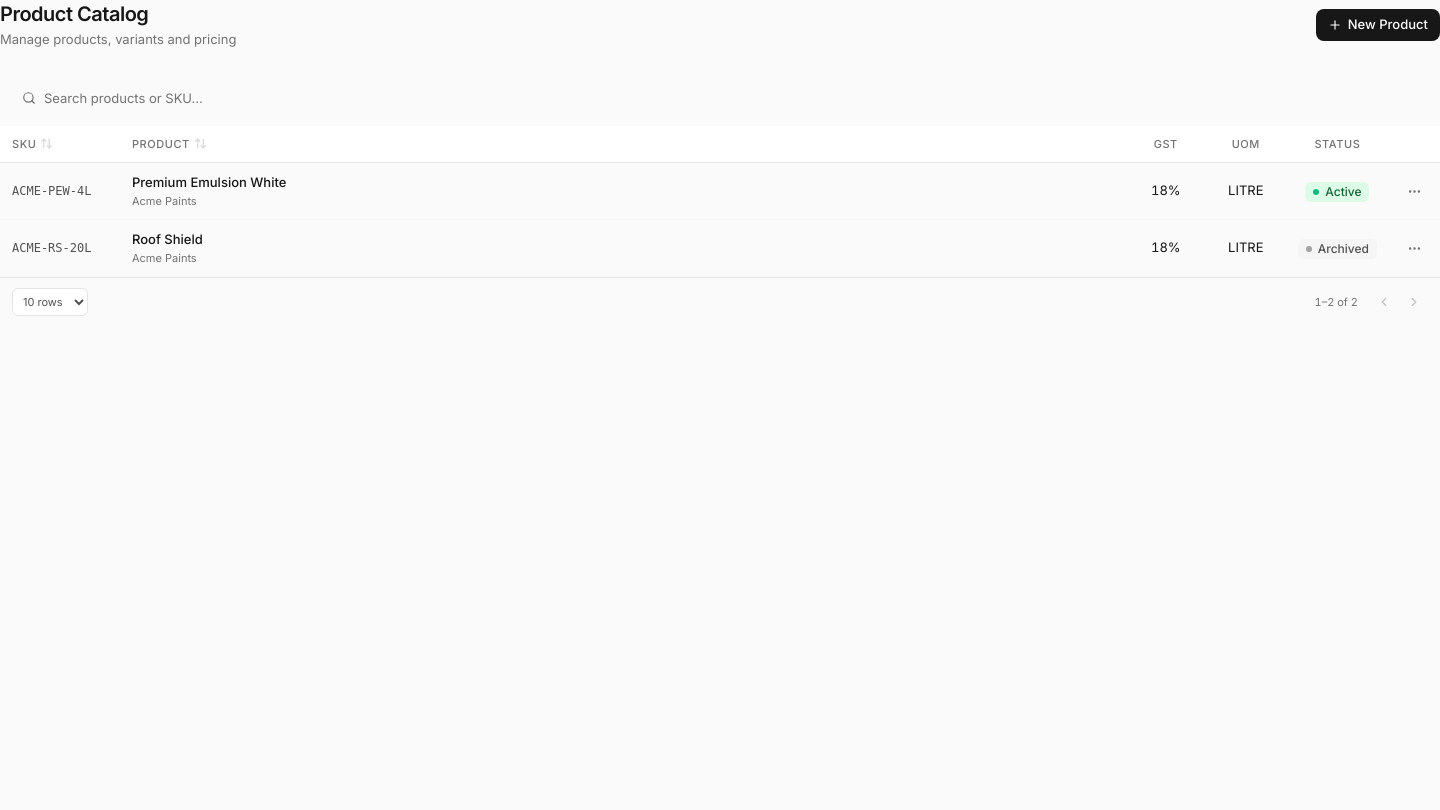
Test: ProductCatalogPage › blocks product creation when product name is missing
Click the button "New Product". click: {"x": 1378, "y": 25}
box: [1316,9,1439,41]
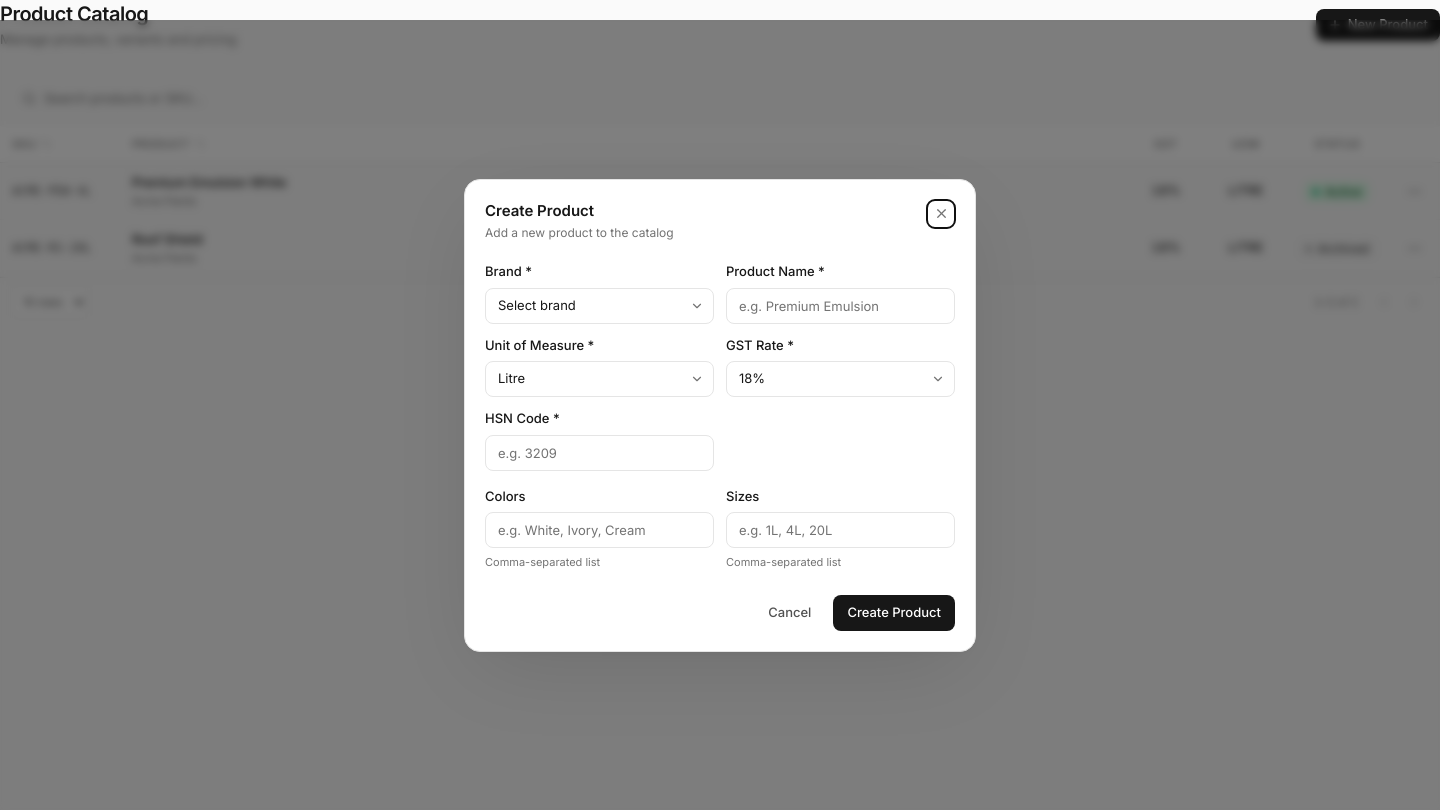
expect the heading "Create Product" is shown: met, box [485,200,594,220]
// Fill brand but leave name empty
Select "Acme Paints" in the dropdown labelled "Brand *". click: {"x": 600, "y": 306}
box: [485,288,714,324]
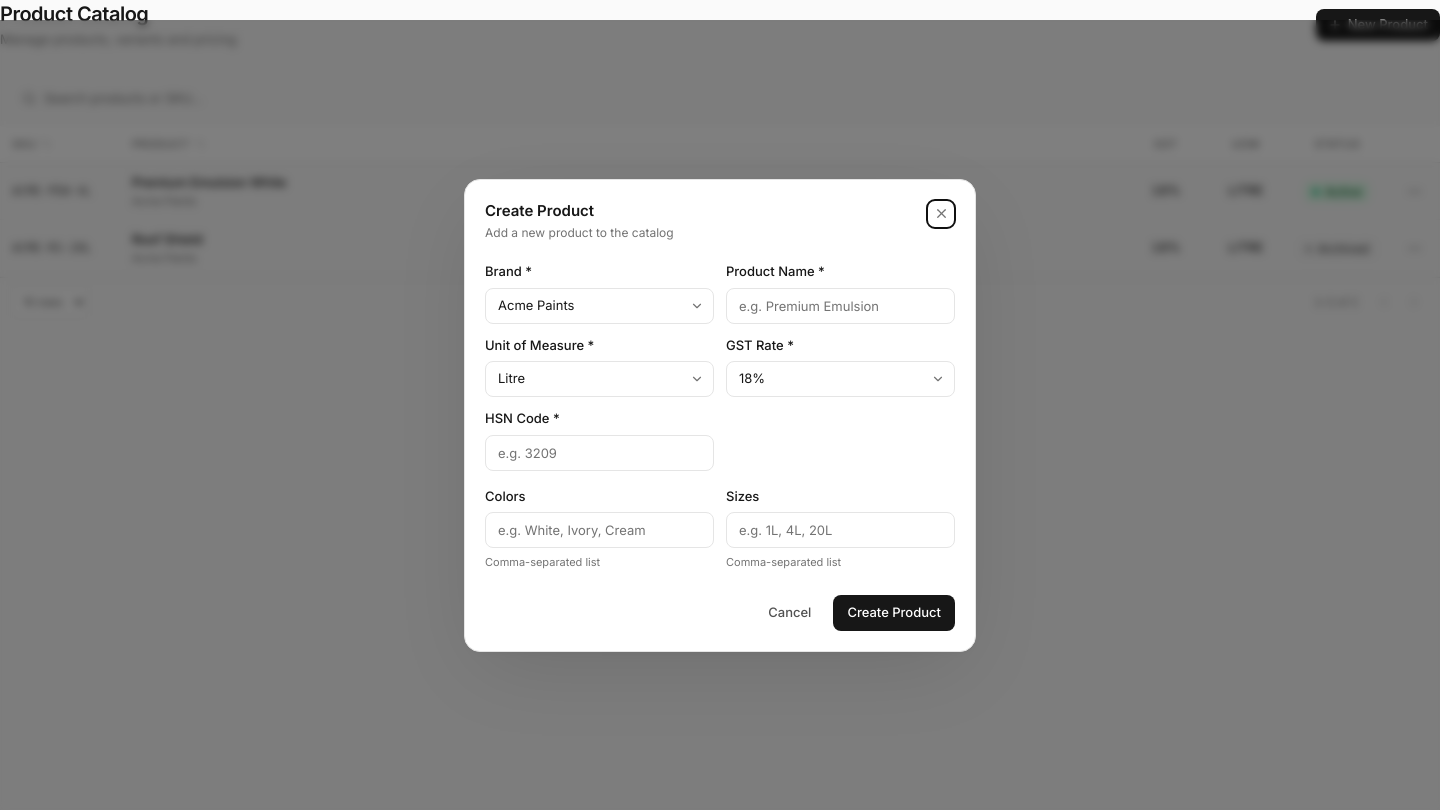
Click the button "Create Product". click: {"x": 894, "y": 612}
box: [833,594,955,630]
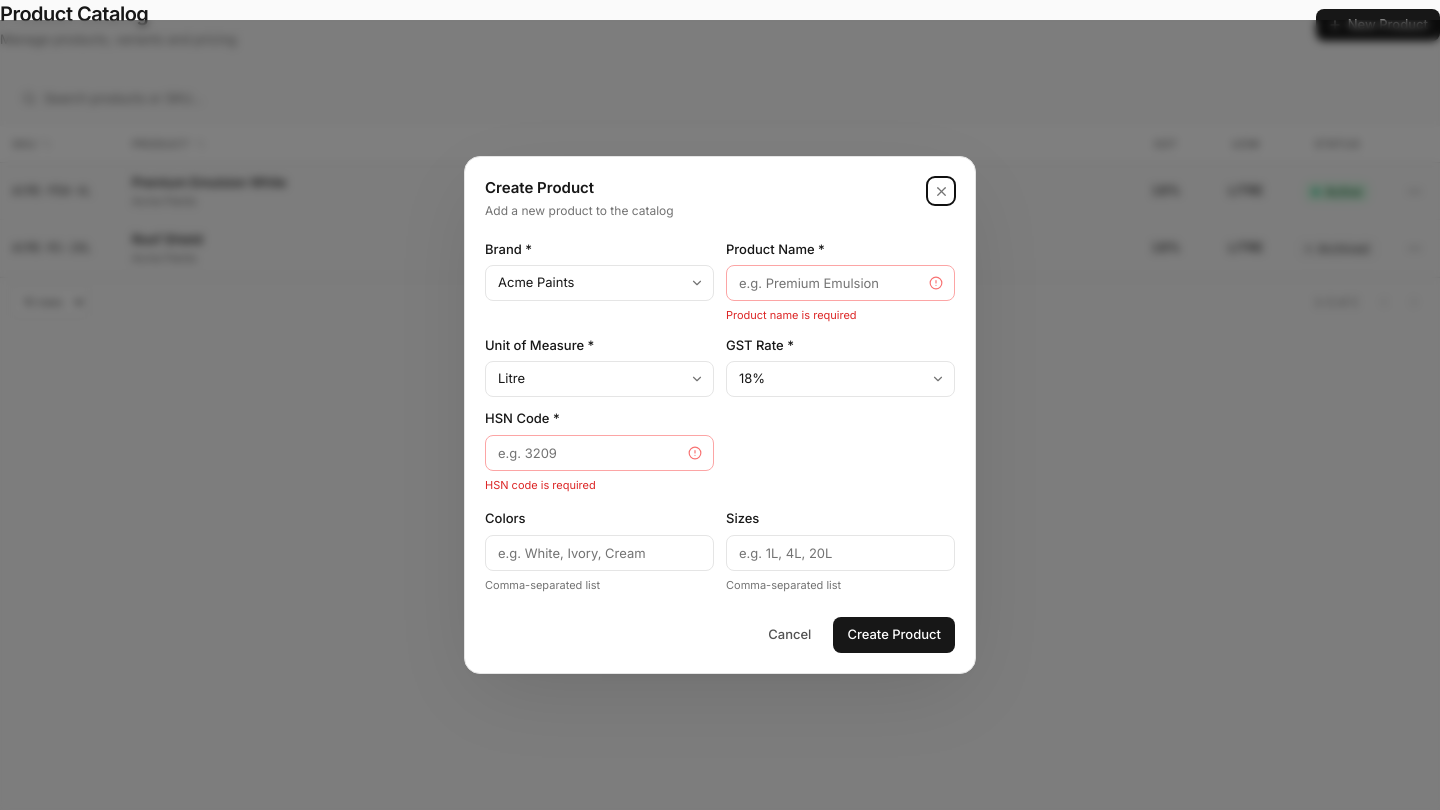
expect the text "Product name is required" is shown: met, box [726,308,857,322]
